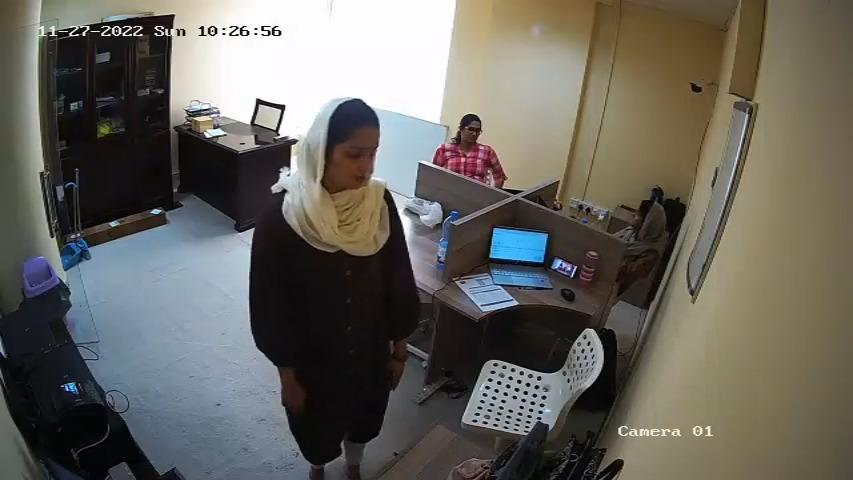no_apron: (266, 195, 392, 360)
